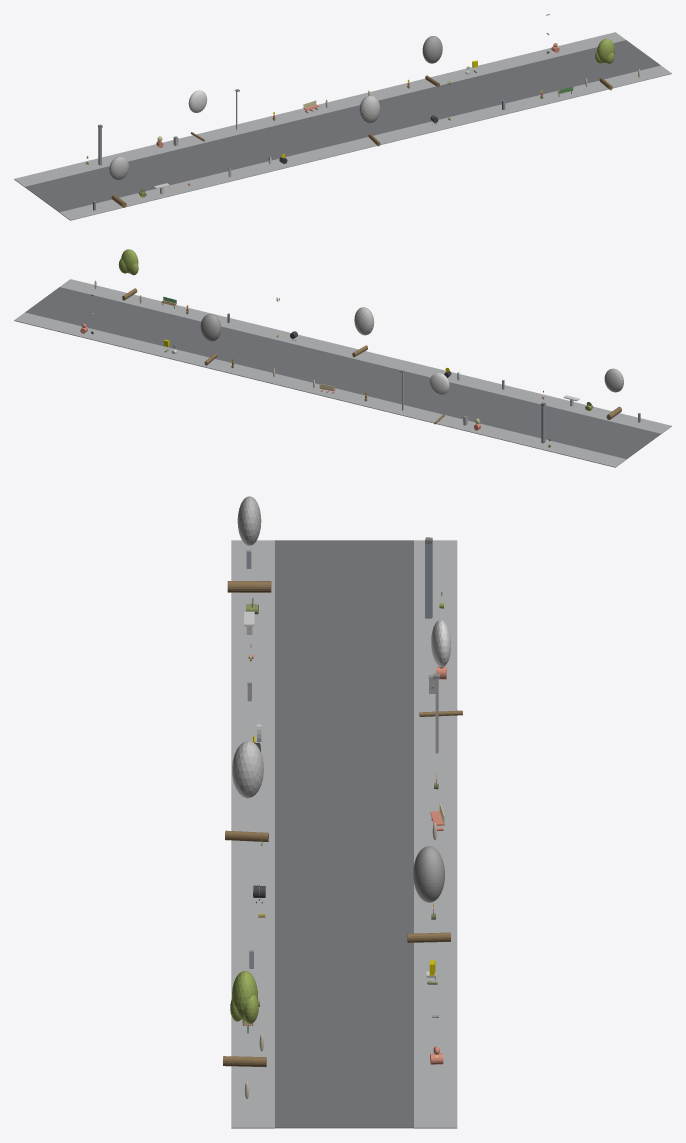
3 renders of one model, top to bottom at view 1: azimuth 30°, elevation 25°; view 2: azimuth 150°, elevation 25°; view 3: azimuth 270°, elevation 25°, orthographic. The views are drawn at different scales.
Visible parts, largest first — view 1: road_slab, sidewalk_left, sidewalk_right, inst_0014, inst_0015, inst_0016, inst_0012, inst_0013; view 2: road_slab, sidewalk_right, sidewalk_left, inst_0015, inst_0014, inst_0016, inst_0012, inst_0013; view 3: road_slab, sidewalk_right, sidewalk_left, inst_0014, inst_0015, inst_0016, inst_0012, inst_0013.
Part boxes in pixels (x1,y1,x2,y2): road_slab: [25, 40, 660, 212]; sidewalk_left: [59, 65, 671, 220]; sidewalk_right: [14, 32, 625, 187]; inst_0014: [359, 95, 380, 146]; inst_0015: [422, 36, 442, 87]; inst_0016: [595, 38, 614, 90]; inst_0012: [109, 156, 128, 207]; inst_0013: [188, 90, 207, 141]; road_slab: [25, 287, 660, 459]; sidewalk_right: [14, 312, 626, 467]; sidewalk_left: [60, 279, 671, 434]; inst_0015: [200, 314, 221, 365]; inst_0014: [352, 307, 374, 357]; inst_0016: [118, 249, 138, 300]; inst_0012: [604, 368, 623, 419]; inst_0013: [429, 373, 449, 424]; road_slab: [275, 540, 413, 1128]; sidewalk_right: [414, 540, 457, 1128]; sidewalk_left: [231, 540, 274, 1128]; inst_0014: [225, 741, 268, 841]; inst_0015: [407, 846, 450, 942]; inst_0016: [223, 970, 266, 1066]; inst_0012: [227, 496, 271, 592]; inst_0013: [419, 620, 462, 716].
Size of the model in its own units: 80 by 6.08 by 13.82.
